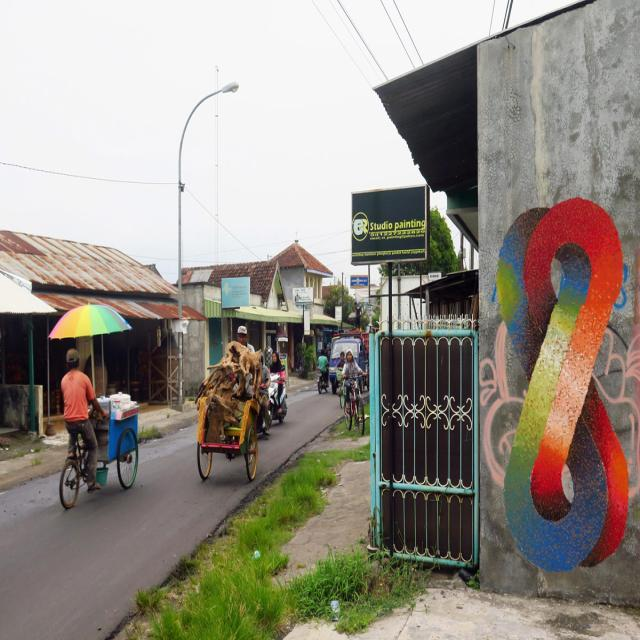-: (500, 196, 630, 570), (480, 316, 640, 490)
